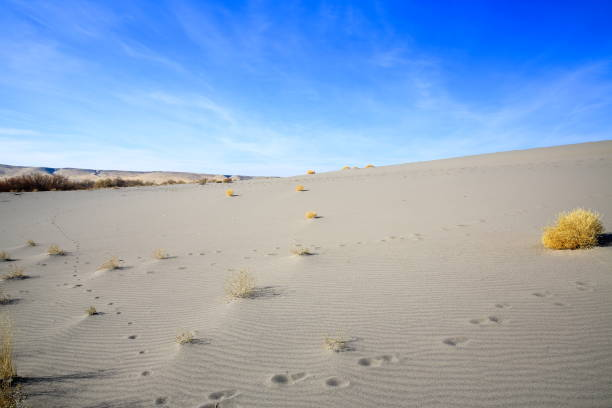human_foot_print: (198, 389, 239, 407), (267, 372, 308, 386), (357, 354, 398, 366), (469, 315, 505, 325), (323, 376, 349, 388), (442, 336, 468, 346), (574, 281, 594, 291)
